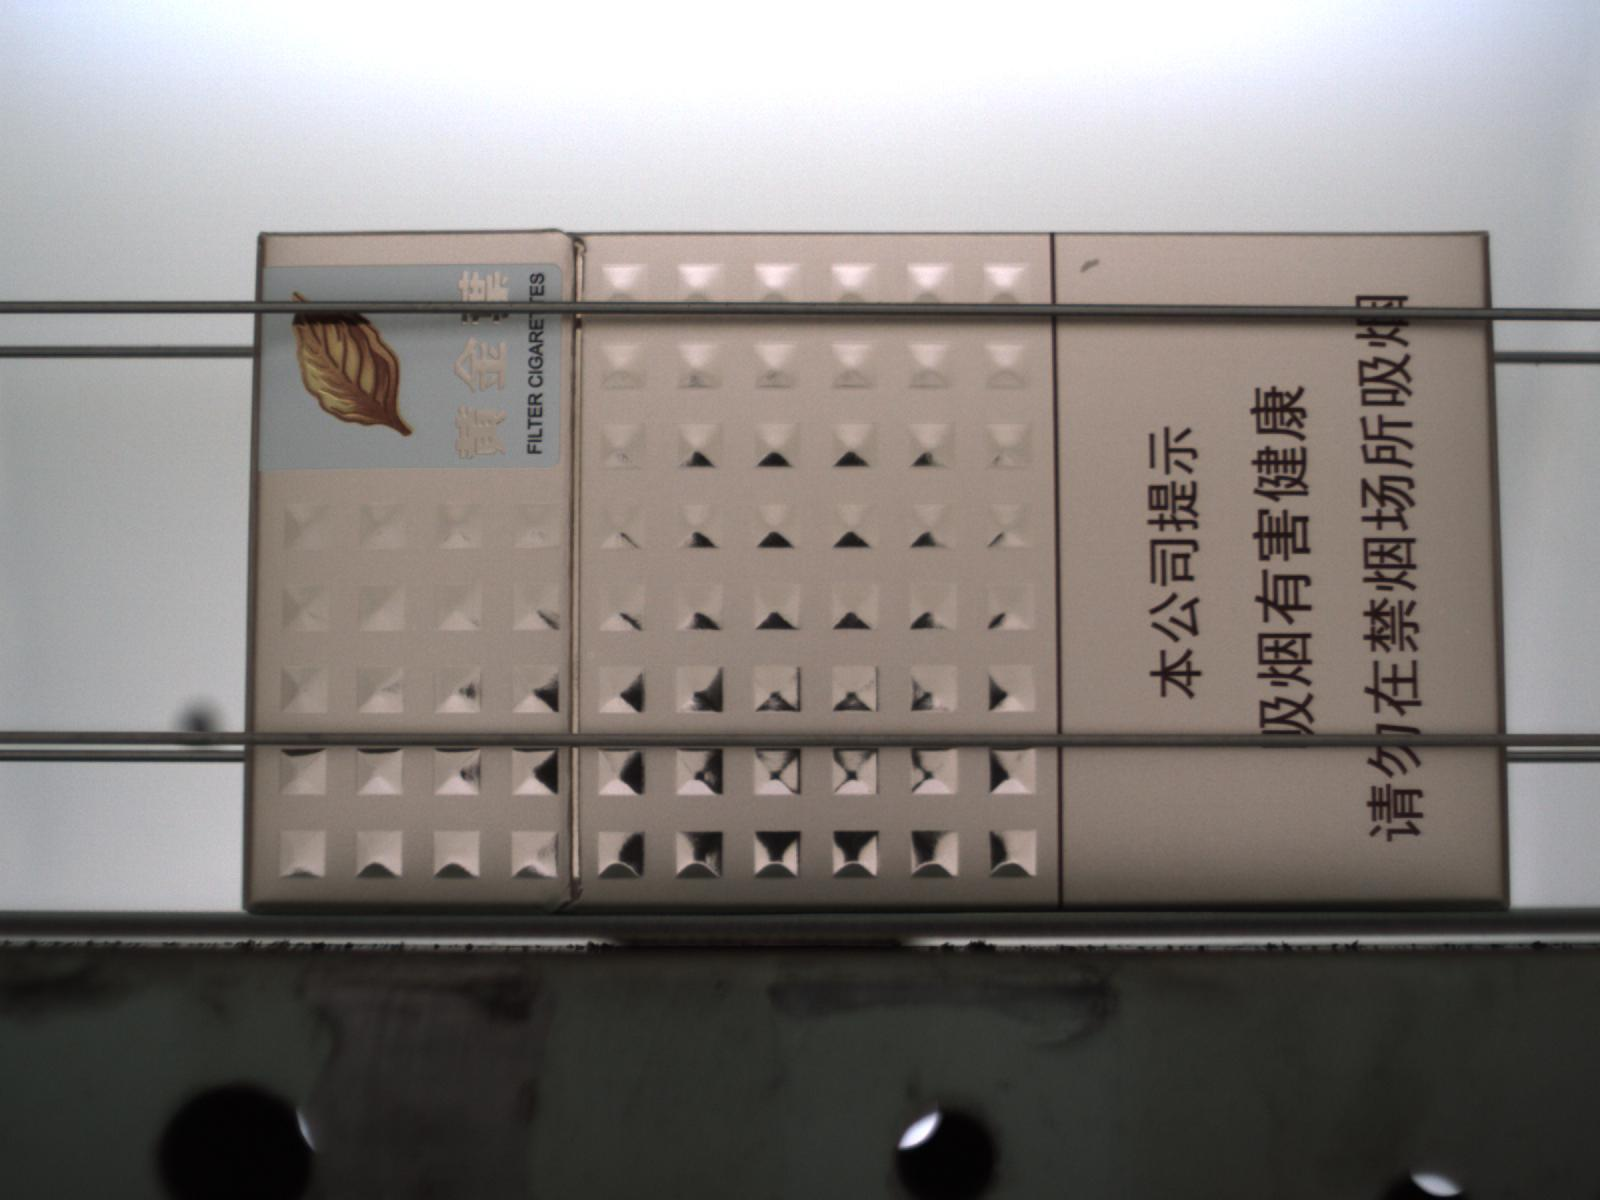dirtySpot: (1077, 257, 1104, 277)
